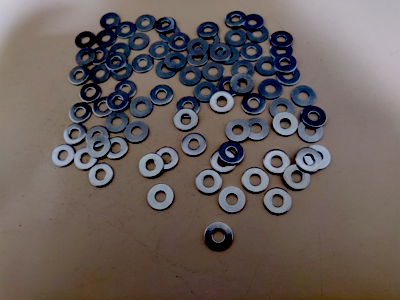circle: (205, 222, 233, 251), (219, 187, 246, 215), (147, 184, 175, 211), (283, 164, 311, 191), (264, 189, 292, 215), (241, 168, 269, 193), (304, 145, 331, 170), (264, 150, 290, 175), (181, 133, 208, 157), (139, 153, 164, 178), (154, 147, 179, 172), (89, 163, 114, 188), (196, 170, 222, 194), (273, 112, 299, 136), (174, 108, 199, 132), (226, 119, 251, 143), (245, 118, 270, 142), (298, 120, 324, 143), (296, 148, 320, 172), (219, 141, 244, 164), (210, 91, 235, 114), (270, 98, 295, 121), (241, 93, 266, 116), (292, 85, 317, 108), (301, 106, 327, 128), (212, 151, 238, 173), (51, 145, 75, 168), (87, 136, 111, 159), (104, 137, 129, 159), (177, 96, 200, 119), (125, 122, 149, 144), (86, 126, 110, 148), (216, 77, 240, 99), (75, 147, 97, 170), (64, 124, 87, 146), (150, 85, 174, 106), (194, 82, 218, 103), (259, 79, 283, 100), (179, 66, 203, 87), (276, 66, 300, 87), (130, 97, 153, 118), (114, 80, 137, 101), (69, 103, 93, 123), (79, 83, 103, 103), (231, 60, 255, 80), (273, 54, 297, 74), (270, 42, 295, 61), (106, 112, 128, 133), (93, 97, 115, 118), (107, 91, 130, 111), (231, 74, 254, 94), (187, 47, 210, 67), (202, 62, 225, 82), (164, 52, 188, 71), (255, 57, 279, 76), (68, 66, 90, 86), (168, 33, 190, 53), (149, 40, 171, 60), (159, 25, 182, 44), (209, 43, 232, 62), (240, 43, 263, 62), (90, 64, 111, 84), (112, 62, 133, 82), (87, 46, 109, 65), (75, 31, 97, 50), (199, 32, 221, 51), (132, 54, 154, 73), (155, 60, 177, 79), (186, 39, 209, 57), (106, 52, 127, 71), (76, 48, 97, 67), (109, 43, 131, 61), (100, 12, 122, 30), (128, 33, 150, 51), (225, 29, 247, 47), (270, 31, 293, 48), (225, 11, 247, 28), (243, 14, 265, 31), (247, 26, 269, 43), (197, 22, 220, 38), (116, 21, 136, 39), (95, 30, 116, 47), (135, 15, 156, 32), (156, 17, 177, 34)
